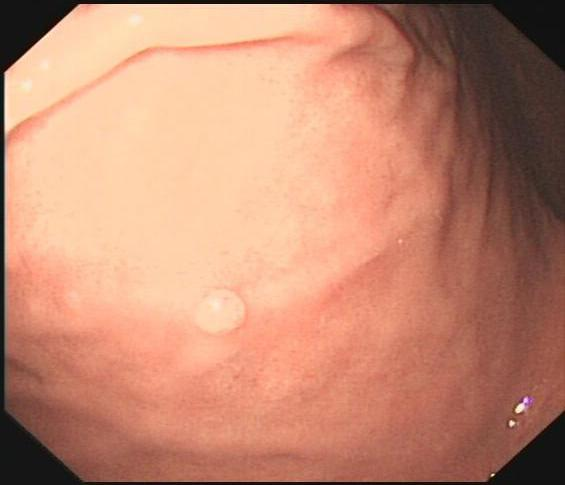Polyp: (172, 256, 275, 351)
